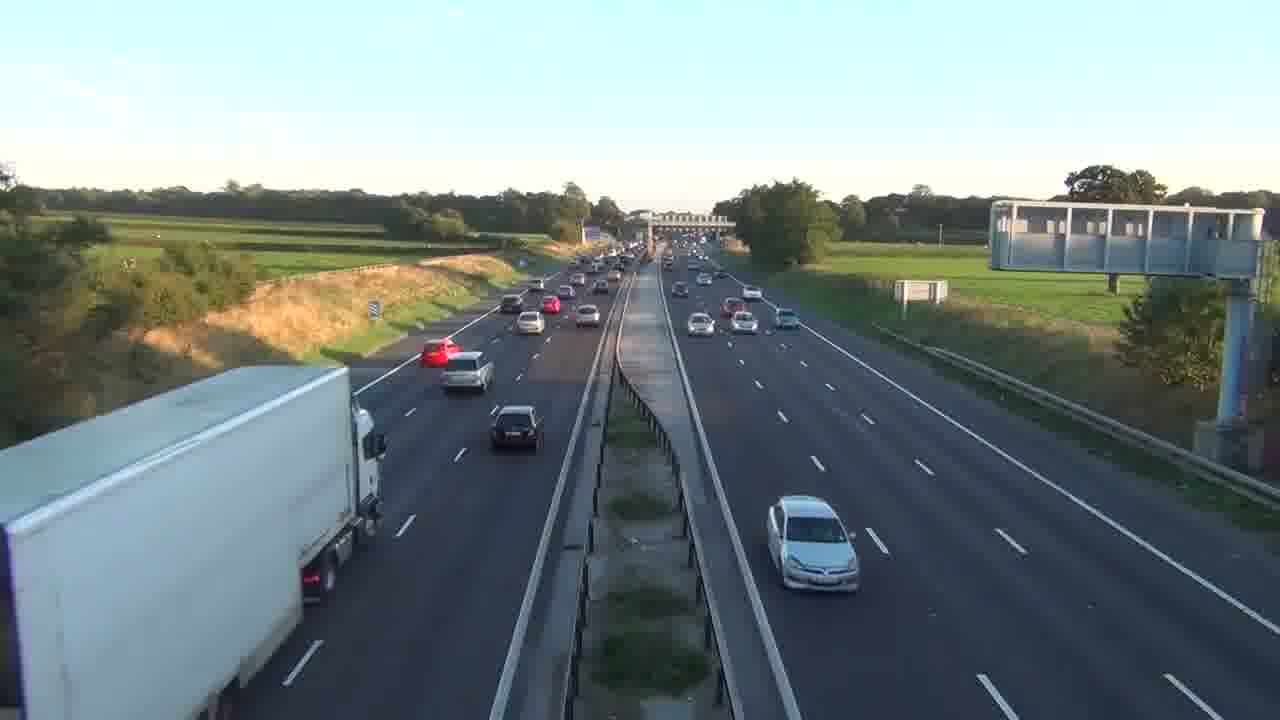car: (766, 494, 862, 594), (489, 403, 545, 452), (440, 350, 495, 393), (419, 335, 464, 367), (687, 311, 716, 337), (514, 310, 544, 334), (574, 302, 601, 328), (732, 311, 759, 334), (498, 294, 523, 314), (541, 295, 562, 313), (672, 281, 689, 298)
truck: (0, 362, 385, 713)
